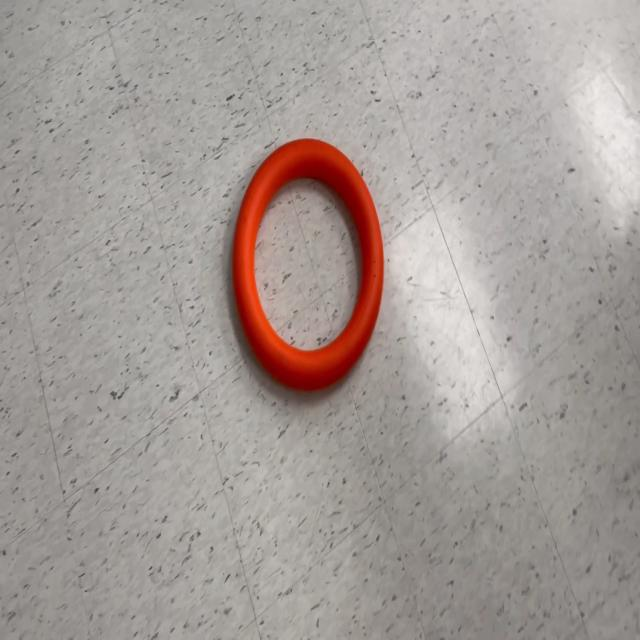note: (230, 134, 386, 396)
